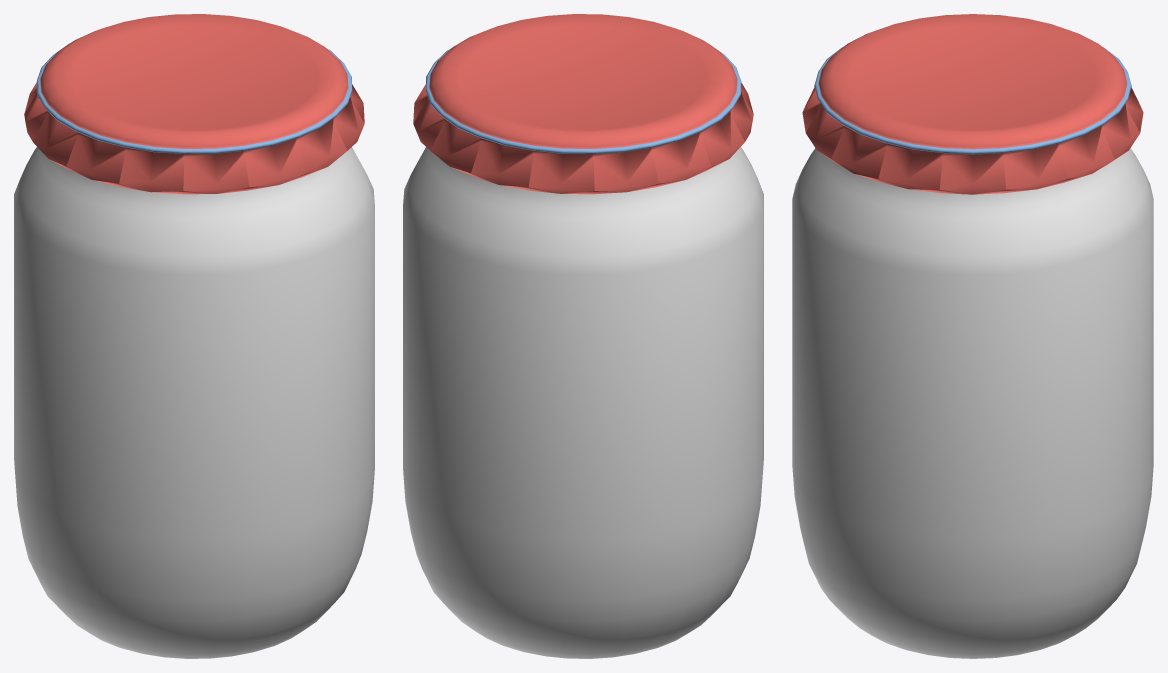
The model's file is JarOfEyes.fbx.
3 renders of one model, left to right at view 1: azimuth 30°, elevation 25°; view 2: azimuth 150°, elevation 25°; view 3: azimuth 270°, elevation 25°, orthographic.
Parts seen in each view (by area): view 1: Jar, JarCap; view 2: Jar, JarCap; view 3: Jar, JarCap.
Part boxes in pixels (x1=…): Jar: x1=14, y1=147, x2=374, y2=658; JarCap: x1=24, y1=14, x2=364, y2=194; Jar: x1=403, y1=147, x2=763, y2=658; JarCap: x1=413, y1=14, x2=753, y2=194; Jar: x1=792, y1=148, x2=1153, y2=658; JarCap: x1=802, y1=14, x2=1143, y2=194.
Size of the model in its own units: 200 by 329 by 200.
